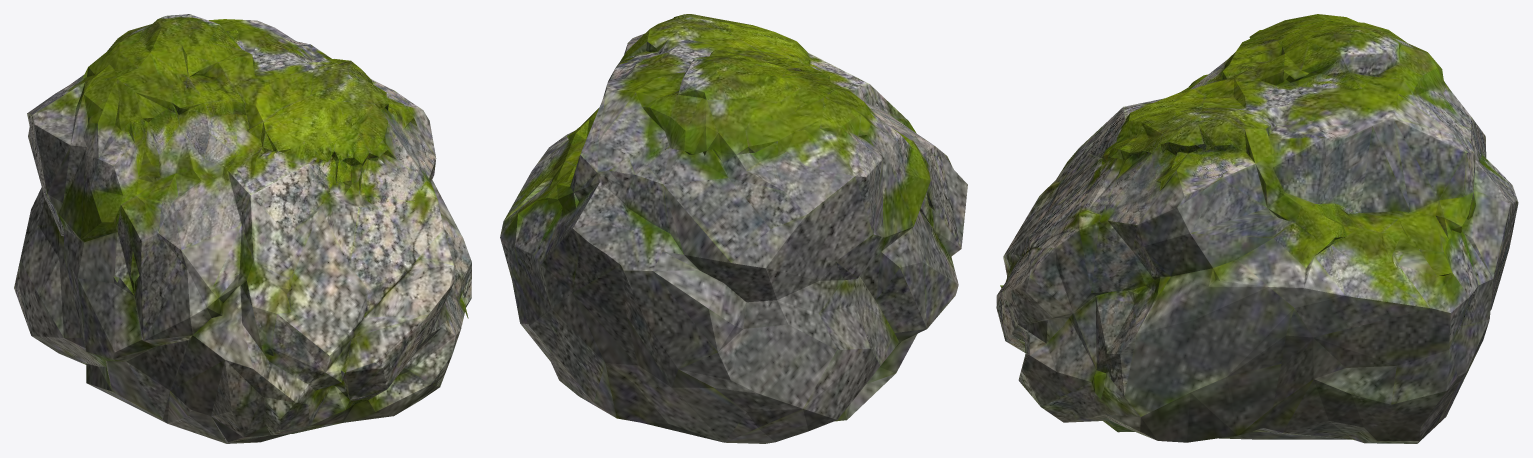
File: granite.glb
3 views of the same model, side by side, from view 1: azimuth 30°, elevation 25°; view 2: azimuth 150°, elevation 25°; view 3: azimuth 270°, elevation 25° (orthographic). The views are drawn at different scales.
Visible parts, largest first — view 1: Mesh_0; view 2: Mesh_0; view 3: Mesh_0.
Boxes of the visible parts, x1=… form: Mesh_0: x1=14, y1=14, x2=471, y2=443; Mesh_0: x1=500, y1=14, x2=967, y2=443; Mesh_0: x1=996, y1=14, x2=1518, y2=443.
Size of the model in its own units: 1.09 by 1 by 1.33.
Materials: 1 (1 with a texture image).
